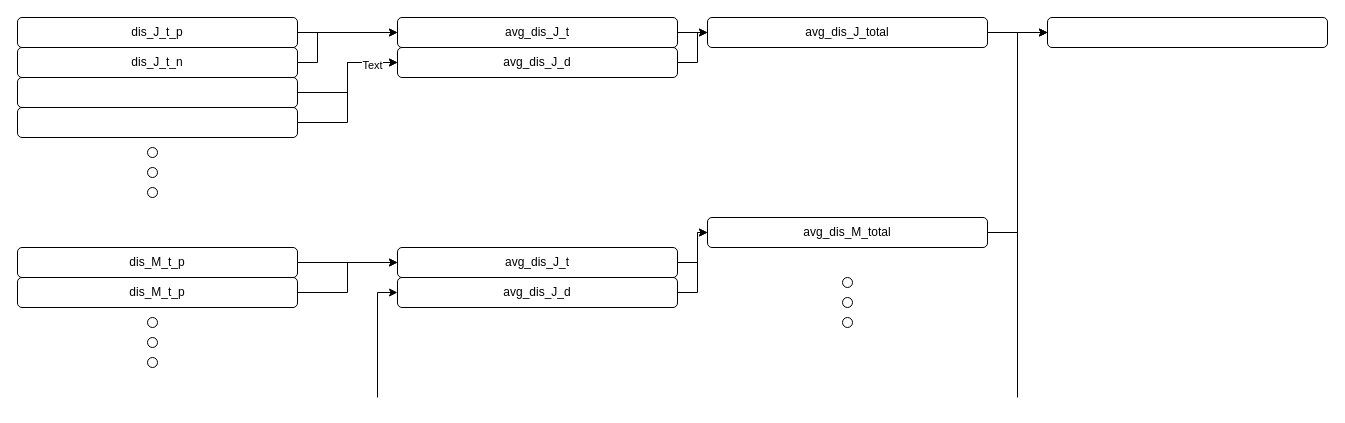
This 1345x423 diagram has some shape labels left out. The centre of each missing label's shape, as x and y in pixels:
avg_dis_total: point (1187, 32)
dis_J_d_n: point (157, 122)
dis_J_d_p: point (157, 92)
